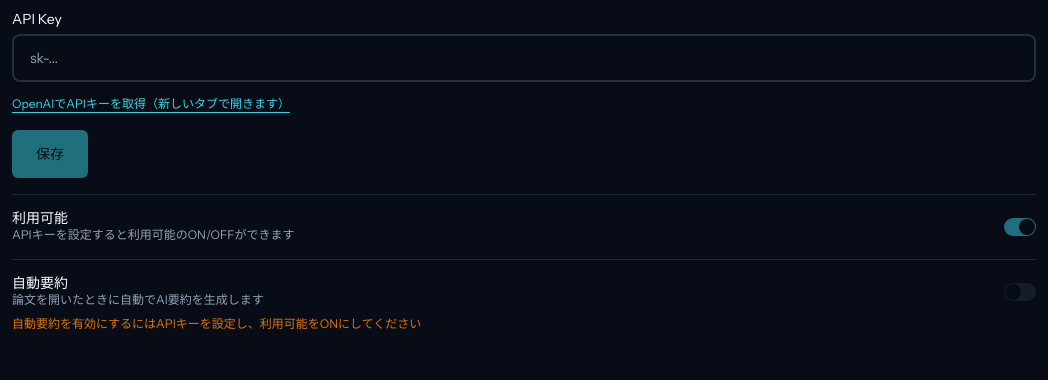
Test: ApiSettings › APIキー保存 › 保存成功後、成功メッセージが表示される
Type "sk-test-api-key-12345" into the password field labelled "API Key".
click(524, 58); type("sk-test-api-key-12345")  # box [12,34,1036,82]
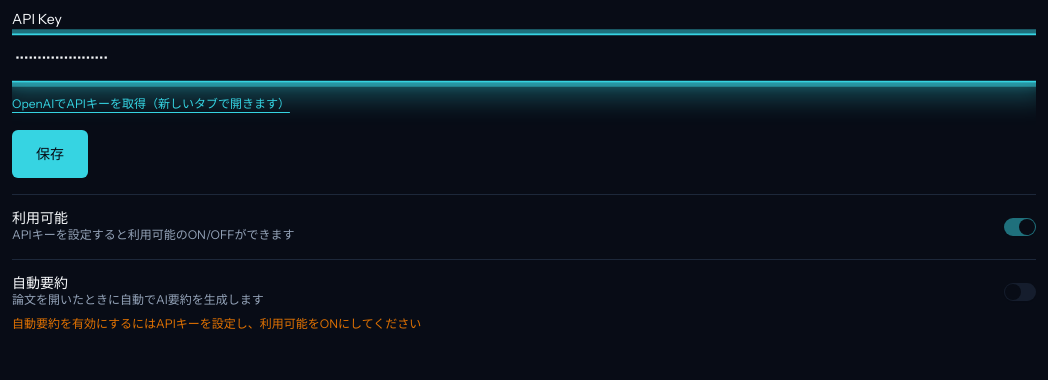
Click the button "保存".
click(50, 154)  # box [12,130,88,178]
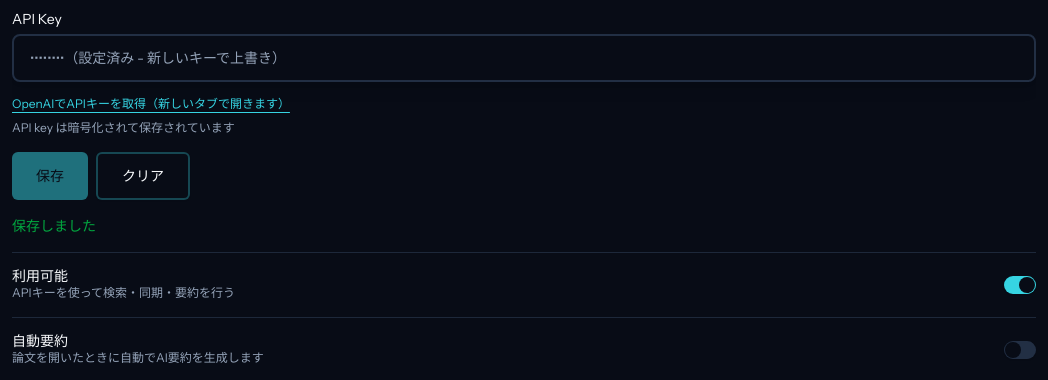
Now the text "保存しました" is shown, box [12,217,96,235]
